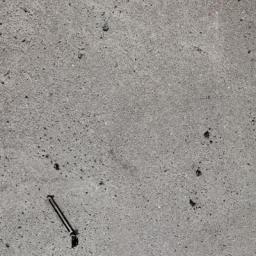FOD: (46, 195, 87, 252)
